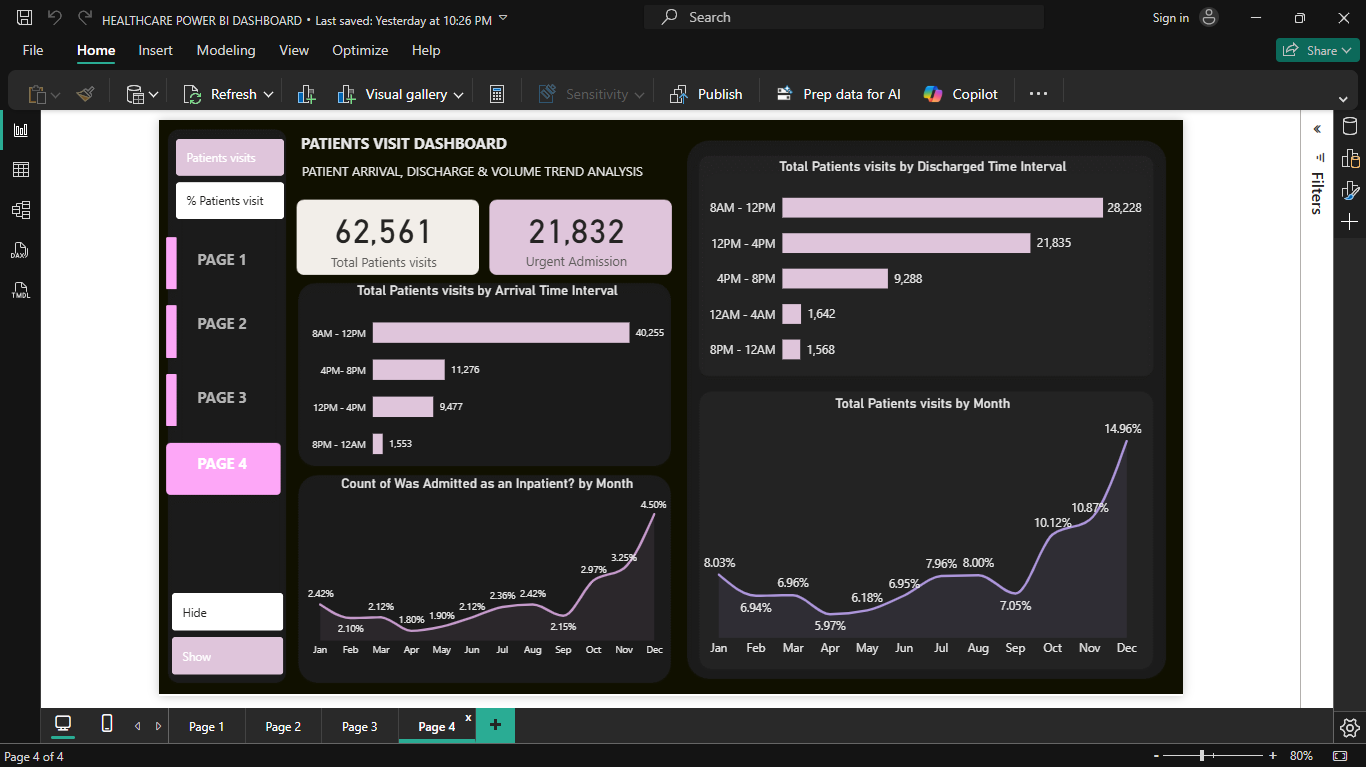

This screenshot's page, from the dashboard's own definition file:
{"tool":"powerbi","page":{"name":"Page 4","canvas":[1280,720],"ordinal":3},"visuals":[{"type":"clusteredBarChart","fields":{"Category":["Patient Data.Discharged Time Interval"],"Y":["DAX House.Total Patients visits"]},"box":[675.9,47,556.9,276.2],"z":0},{"type":"card","fields":{"Values":["DAX House.Urgent Admission"]},"box":[401.1,92.6,241,104.3],"z":1000},{"type":"card","fields":{"Values":["DAX House.TOTAL Patients visits"]},"box":[161.6,92.6,239.5,105.8],"z":2000},{"type":"clusteredBarChart","fields":{"Category":["Patient Data.Arrival Time Interval"],"Y":["DAX House.Total Patients visits"]},"box":[180.7,202.8,458.4,241],"z":3000},{"type":"lineChart","fields":{"Category":["CALENDAR.Month"],"Y":["DAX House.Total Patients visits"]},"box":[675.9,343.8,556.9,336.5],"z":4000},{"type":"advancedSlicerVisual","fields":{"Values":["Values/Percentage.Values/Percentage"]},"box":[16.7,18.3,145,111.7],"z":5000},{"type":"advancedSlicerVisual","fields":{"Values":["show/hide.Column1"]},"box":[11.8,586.3,149.9,113.1],"z":6000},{"type":"actionButton","box":[19.1,148.4,120.5,50],"z":7000},{"type":"actionButton","box":[19.1,229.2,120.5,50],"z":8000},{"type":"actionButton","box":[19.1,404.1,120.5,50],"z":9000},{"type":"actionButton","box":[19.1,321.8,120.5,50],"z":10000},{"type":"textbox","box":[171.9,11.8,470.2,39.7],"z":11000},{"type":"textbox","box":[173.4,47,470.2,39.7],"z":12000},{"type":"lineChart","fields":{"Category":["CALENDAR.Month"],"Y":["CountNonNull(Patient Data.Was Admitted as an Inpatient?)"]},"box":[181,444,458,236],"z":13000}]}

Visuals, with their boxes on the page's 1280x720 design canvas (x1, y1, x2, y2). These are canvas units, not pixel positions in the 1366x767 screenshot, which may show the page scaled, cropped or inside an application window:
clusteredBarChart - Patient Data.Discharged Time Interval x DAX House.Total Patients visits: Rect(676, 47, 1233, 323)
card - DAX House.Urgent Admission: Rect(401, 93, 642, 197)
card - DAX House.TOTAL Patients visits: Rect(162, 93, 401, 198)
clusteredBarChart - Patient Data.Arrival Time Interval x DAX House.Total Patients visits: Rect(181, 203, 639, 444)
lineChart - CALENDAR.Month x DAX House.Total Patients visits: Rect(676, 344, 1233, 680)
advancedSlicerVisual - Values/Percentage.Values/Percentage: Rect(17, 18, 162, 130)
advancedSlicerVisual - show/hide.Column1: Rect(12, 586, 162, 699)
actionButton: Rect(19, 148, 140, 198)
actionButton: Rect(19, 229, 140, 279)
actionButton: Rect(19, 404, 140, 454)
actionButton: Rect(19, 322, 140, 372)
textbox: Rect(172, 12, 642, 52)
textbox: Rect(173, 47, 644, 87)
lineChart - CALENDAR.Month x CountNonNull(Patient Data.Was Admitted as an Inpatient?): Rect(181, 444, 639, 680)
